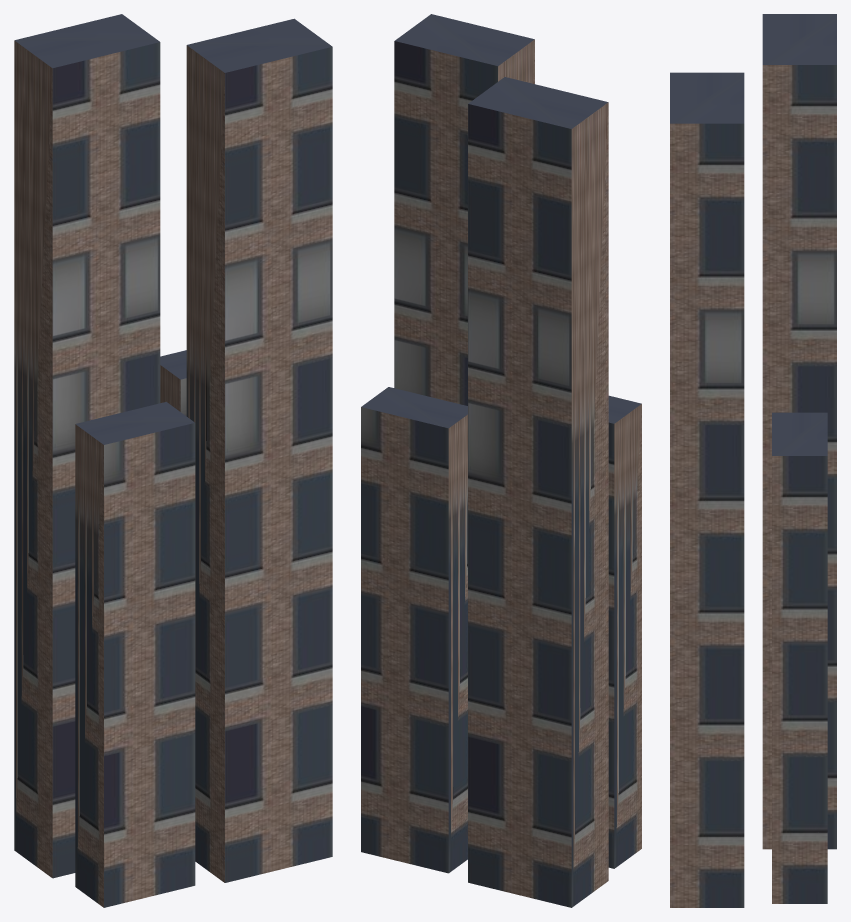
File: block_10.obj
3 renders of one model, left to right at view 1: azimuth 30°, elevation 25°; view 2: azimuth 150°, elevation 25°; view 3: azimuth 270°, elevation 25°, orthographic. The views are drawn at different scales.
Parts seen in each view (by area): view 1: b3, b0, b1, b2; view 2: b0, b2, b3, b1; view 3: b3, b0, b2.
Boxes of the visible parts, x1,y1,x2,y2 form: b3: [186, 18, 332, 882]; b0: [14, 14, 160, 878]; b1: [75, 402, 195, 907]; b2: [160, 350, 186, 416]; b0: [468, 77, 608, 907]; b2: [361, 387, 467, 873]; b3: [394, 14, 534, 405]; b1: [608, 395, 641, 868]; b3: [670, 72, 744, 907]; b0: [762, 14, 836, 849]; b2: [772, 412, 827, 903].
Size of the model in its own units: 4.2 by 14 by 2.7.
